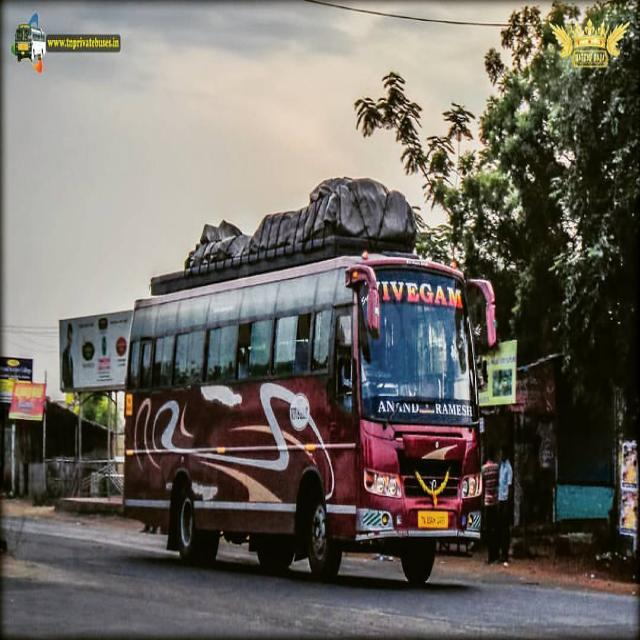Bus: (121, 232, 497, 580)
